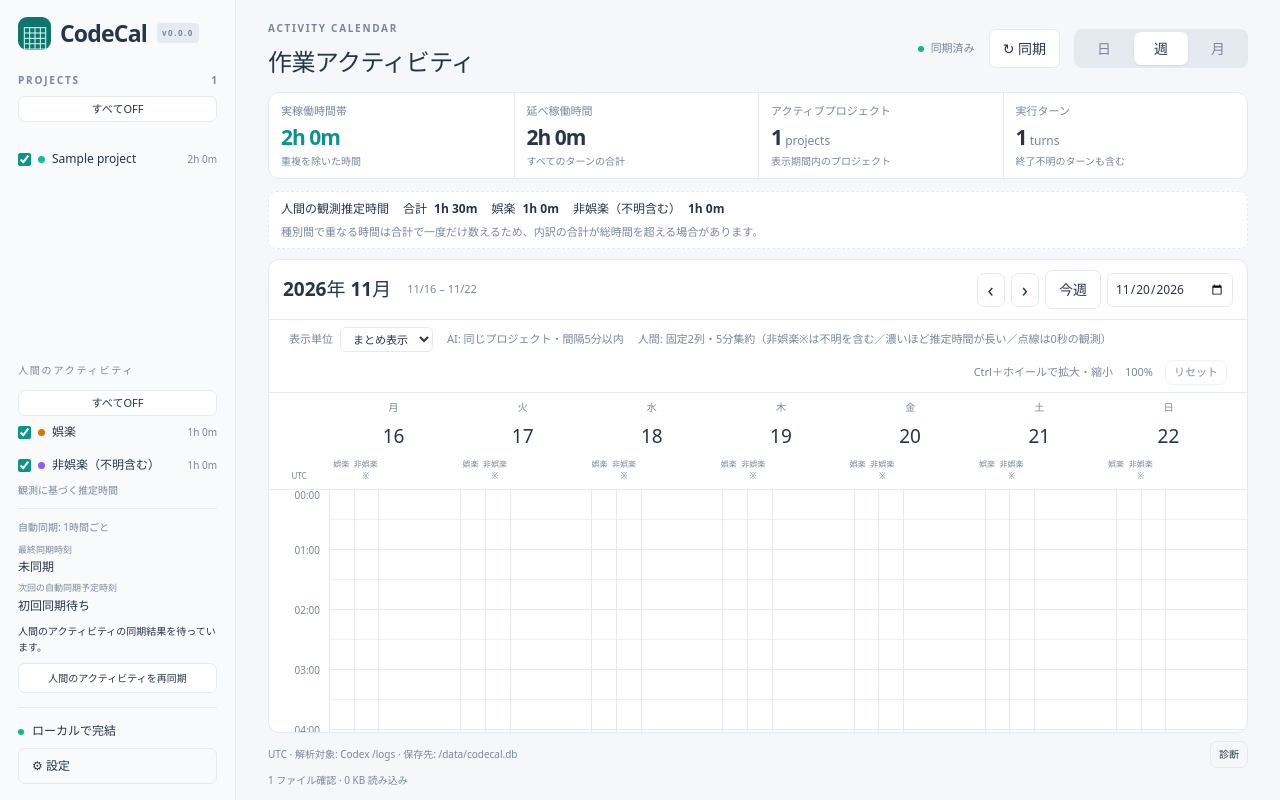
Test: keeps human observed totals independent of AI and explains overlapping kind totals
expect the text with test id "human-total" reads "1h 30m": met, box [434,200,477,217]
expect the text named "娯楽の推定時間" reads "1h 0m": met, box [522,200,559,217]
Step 1. Click the checkbox named "人間の娯楽を表示" → (24,433), box [18,426,31,439]
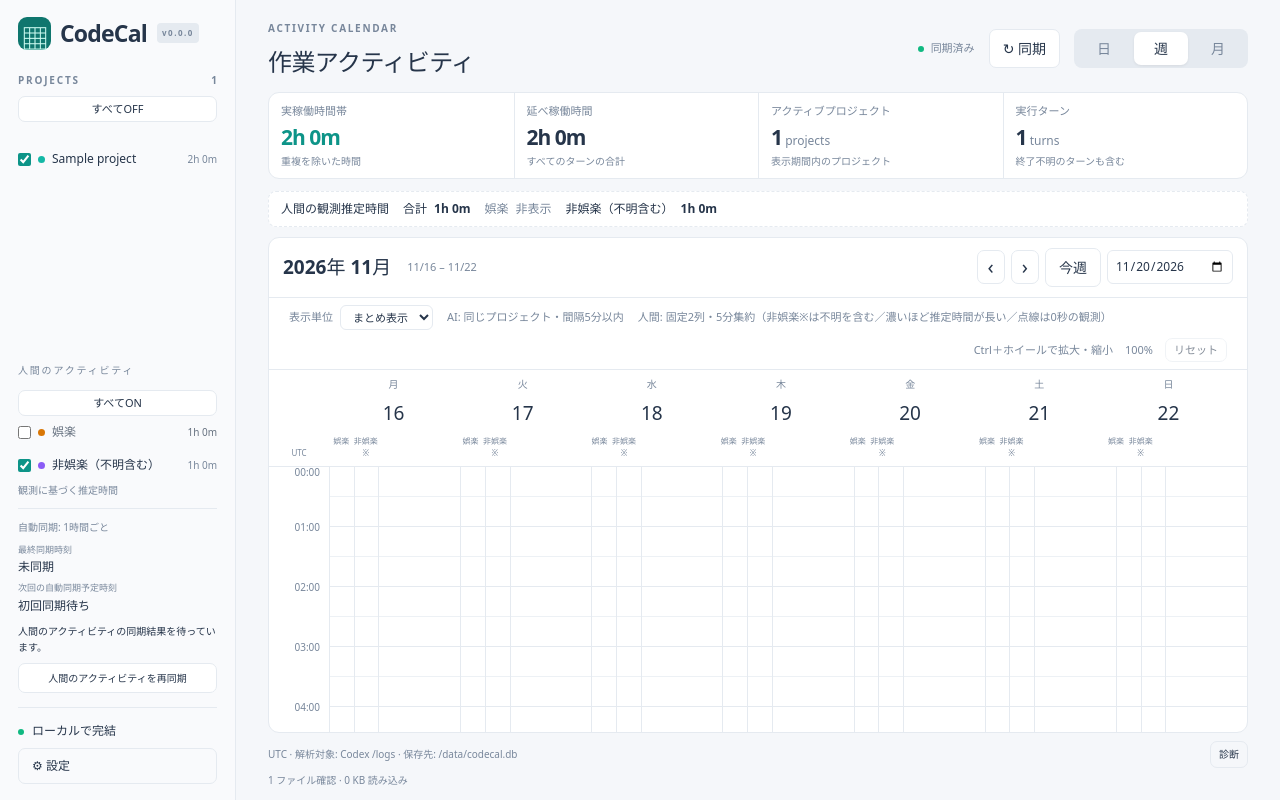
expect the 3rd text "1h 0m" is shown: met, box [187,425,217,440]
expect the text with test id "human-total" reads "1h 0m": met, box [434,200,470,217]
